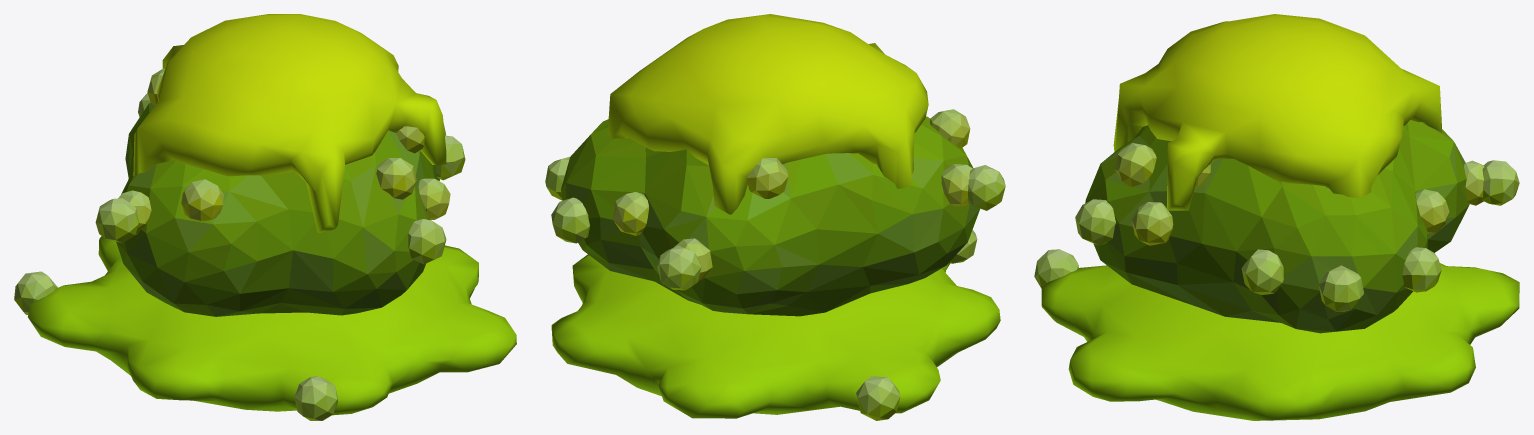
Rendered from Sludgeberry_Bush.glb.
The picture shows the model from 3 angles, left to right: view 1: azimuth 30°, elevation 25°; view 2: azimuth 150°, elevation 25°; view 3: azimuth 270°, elevation 25°; orthographic projection.
Parts seen in each view (by area): view 1: Sludgeberry_Bush; view 2: Sludgeberry_Bush; view 3: Sludgeberry_Bush.
Boxes of the visible parts, bbox=[...] form: Sludgeberry_Bush: bbox=[14, 14, 516, 420]; Sludgeberry_Bush: bbox=[545, 14, 1005, 420]; Sludgeberry_Bush: bbox=[1034, 14, 1519, 420].
Size of the model in its own units: 3.86 by 3.13 by 4.
